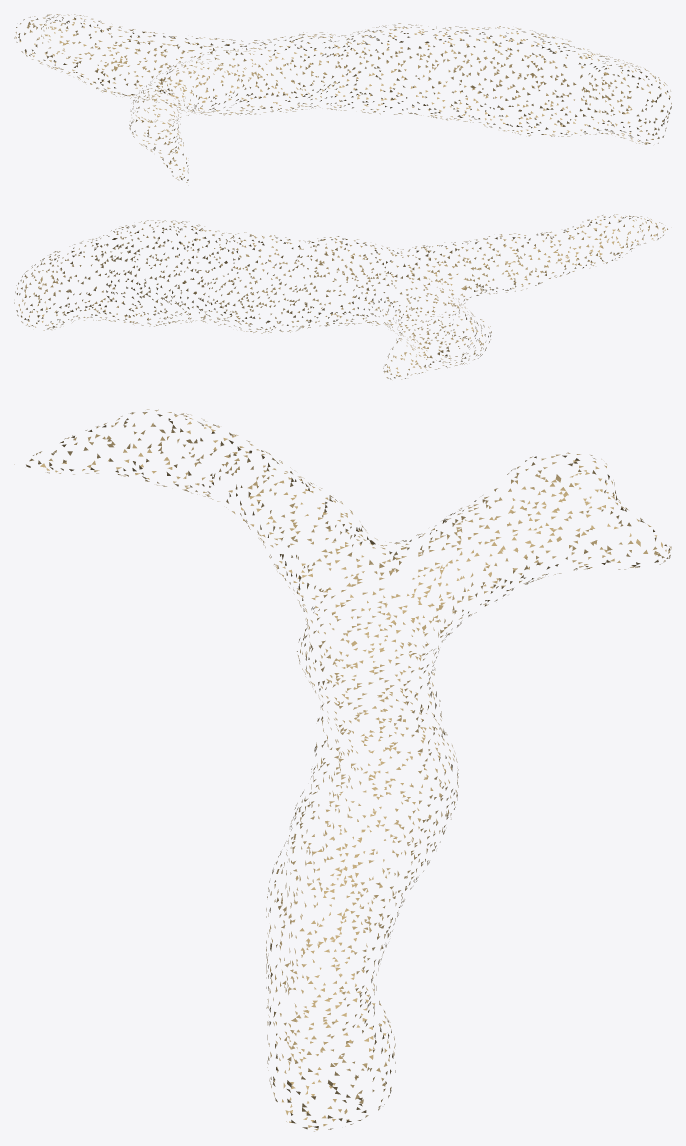
The model's file is morph_007.glb.
3 renders of one model, top to bottom at view 1: azimuth 30°, elevation 25°; view 2: azimuth 150°, elevation 25°; view 3: azimuth 270°, elevation 25°, orthographic. The views are drawn at different scales.
Bounding box in the file's own units: 138 × 47.58 × 88.77.
